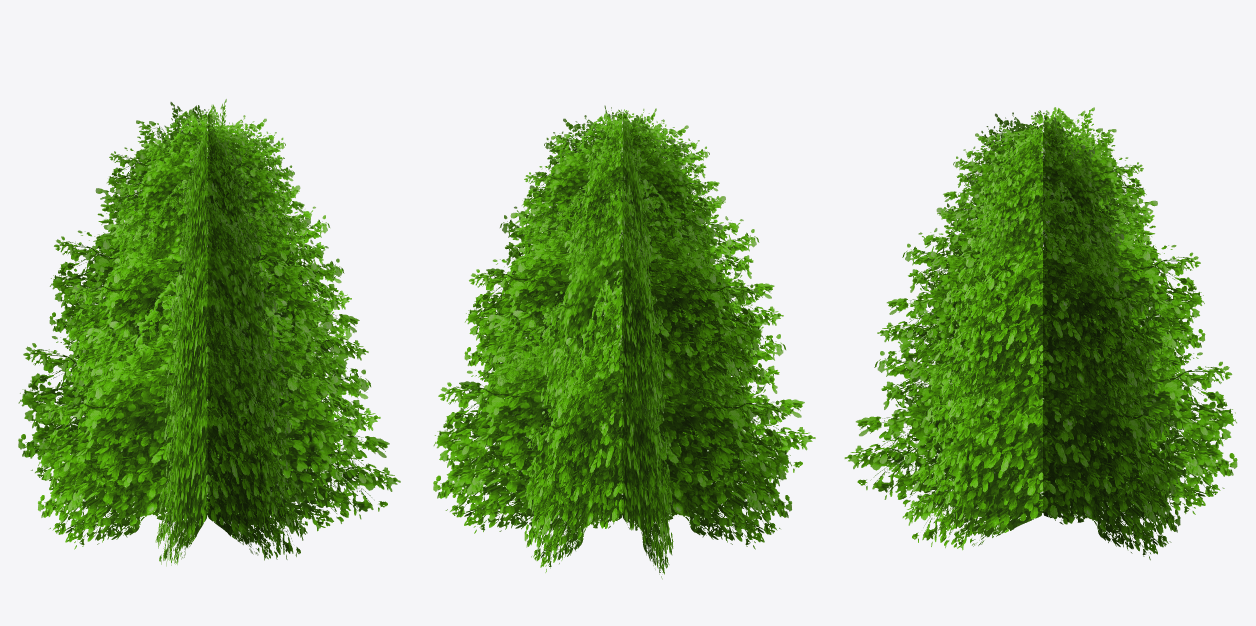
The model's file is Bush.fbx.
The picture shows the model from 3 angles, left to right: view 1: azimuth 30°, elevation 25°; view 2: azimuth 150°, elevation 25°; view 3: azimuth 270°, elevation 25°; orthographic projection.
Parts seen in each view (by area): view 1: Object, Plane020, Plane001; view 2: Plane001, Object, Plane020; view 3: Plane001, Plane020.
Boxes of the visible parts, x1=… form: Object: x1=38, y1=109, x2=380, y2=549; Plane020: x1=18, y1=109, x2=400, y2=531; Plane001: x1=126, y1=99, x2=307, y2=566; Plane001: x1=433, y1=108, x2=815, y2=572; Object: x1=453, y1=109, x2=791, y2=549; Plane020: x1=600, y1=105, x2=673, y2=579; Plane001: x1=844, y1=110, x2=1237, y2=560; Plane020: x1=902, y1=107, x2=1178, y2=550.
Size of the model in its own units: 197 by 257 by 197.
